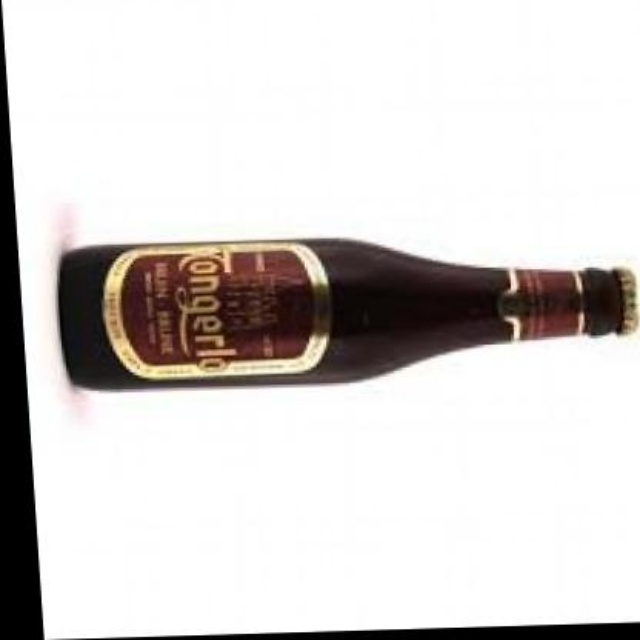trash: (58, 238, 635, 388)
